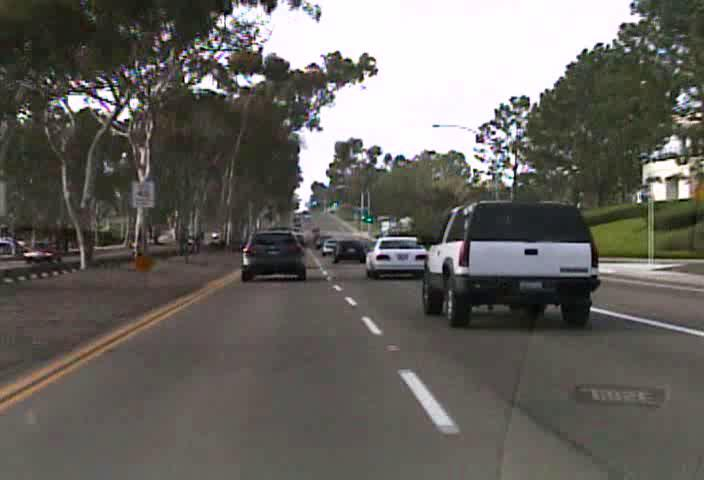speedLimit45: (130, 180, 154, 208)
